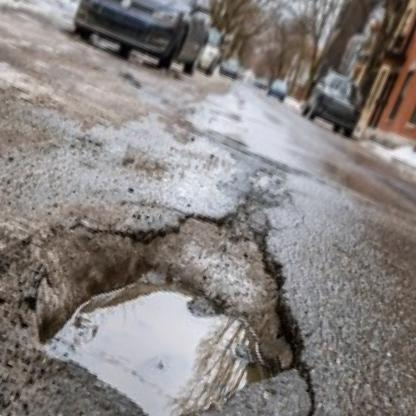pothole: (8, 141, 352, 416)
